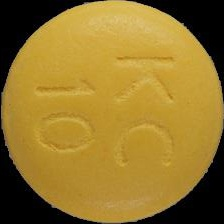0245-0041: (0, 0, 224, 224)
